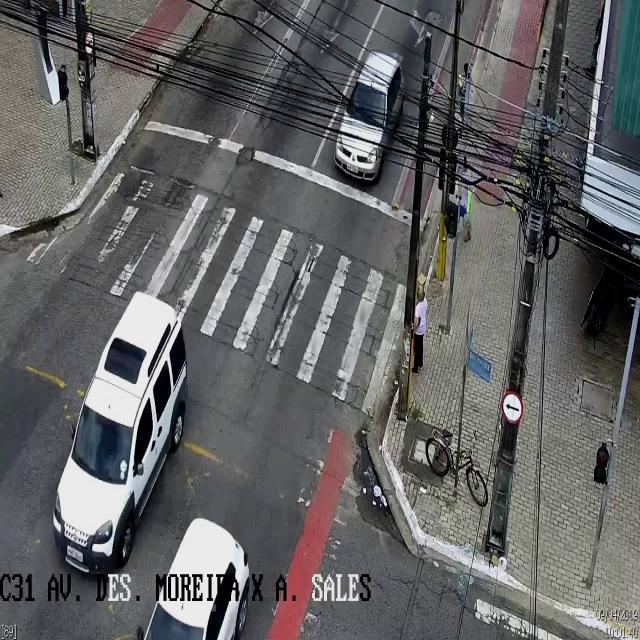Car: (53, 290, 185, 574), (137, 517, 250, 639), (334, 51, 404, 181)
